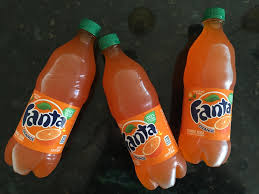fanta: (4, 23, 99, 175), (100, 38, 187, 187), (185, 8, 236, 164)
